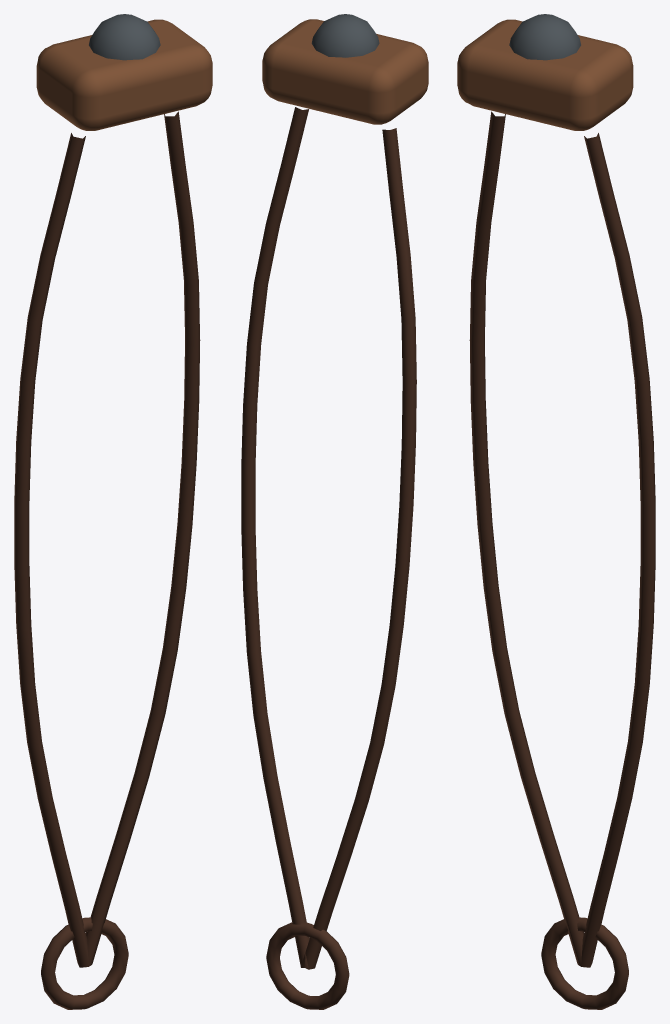
File: sling.glb
3 renders of one model, left to right at view 1: azimuth 30°, elevation 25°; view 2: azimuth 150°, elevation 25°; view 3: azimuth 330°, elevation 25°, orthographic. The views are drawn at different scales.
Visible parts, largest first — view 1: sling-cord-right, sling-cord-left, sling-pouch, sling-finger-loop, sling-projectile; view 2: sling-cord-right, sling-cord-left, sling-pouch, sling-finger-loop, sling-projectile; view 3: sling-cord-left, sling-cord-right, sling-pouch, sling-finger-loop, sling-projectile.
Boxes of the visible parts, left/top/right/bottom form: sling-cord-right: left=86, top=111, right=200, bottom=966; sling-cord-left: left=14, top=133, right=88, bottom=967; sling-pouch: left=36, top=19, right=212, bottom=130; sling-finger-loop: left=41, top=917, right=128, bottom=1009; sling-projectile: left=89, top=14, right=160, bottom=60; sling-cord-right: left=241, top=107, right=309, bottom=967; sling-cord-left: left=301, top=128, right=416, bottom=969; sling-pouch: left=262, top=19, right=428, bottom=124; sling-finger-loop: left=266, top=922, right=349, bottom=1009; sling-projectile: left=311, top=14, right=379, bottom=57; sling-cord-left: left=469, top=111, right=583, bottom=966; sling-cord-right: left=581, top=133, right=655, bottom=967; sling-pouch: left=457, top=19, right=633, bottom=130; sling-finger-loop: left=541, top=917, right=628, bottom=1009; sling-projectile: left=509, top=14, right=580, bottom=60.
Size of the model in its own units: 0.061 by 0.329 by 0.0409.
